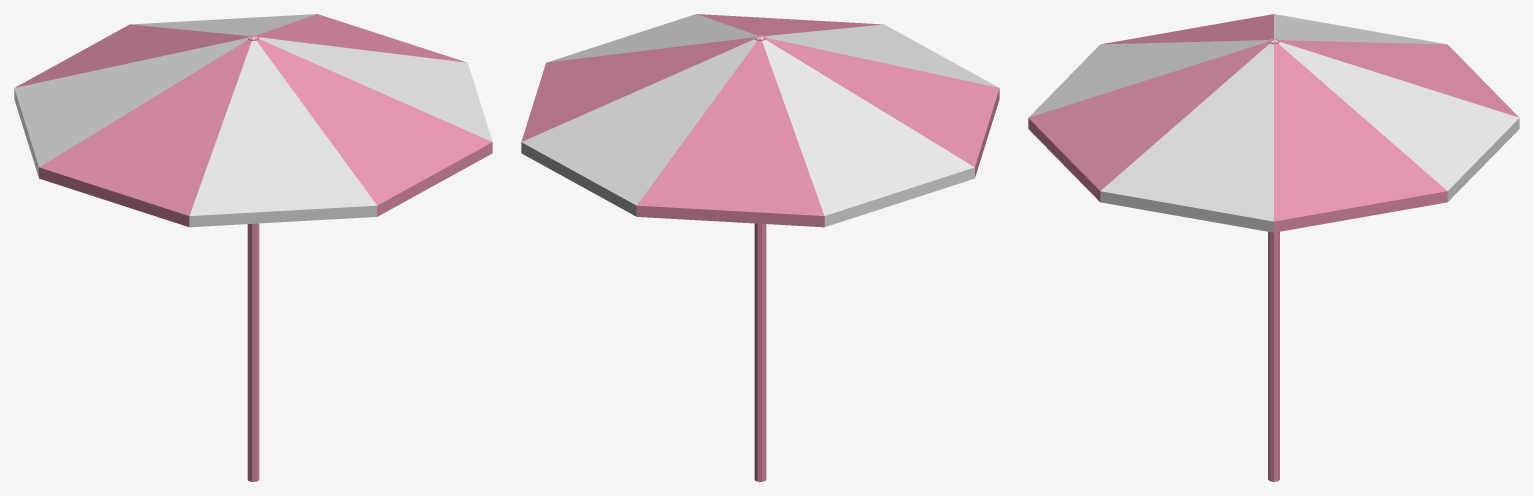
File: OU_C_SunbedUmbrella_01_D.fbx
The picture shows the model from 3 angles, left to right: view 1: azimuth 30°, elevation 25°; view 2: azimuth 150°, elevation 25°; view 3: azimuth 270°, elevation 25°; orthographic projection.
Parts seen in each view (by area): view 1: OU_D_SunUmbrella_01_D; view 2: OU_D_SunUmbrella_01_D; view 3: OU_D_SunUmbrella_01_D.
Boxes of the visible parts, x1,y1,x2,y2 form: OU_D_SunUmbrella_01_D: (14, 14, 492, 481); OU_D_SunUmbrella_01_D: (521, 14, 999, 481); OU_D_SunUmbrella_01_D: (1028, 14, 1519, 481).
Size of the model in its own units: 406 by 401 by 406.
